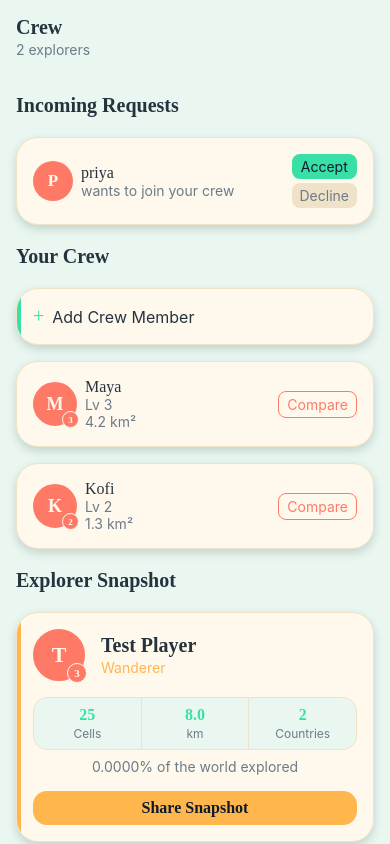
Test: FriendsScreen › compare sheet opens for a crew member
This screenshot has width=390, height=844.
Click the button with test id "crew-card-compare-maya" at x=318, y=404, box [278,390,357,418]
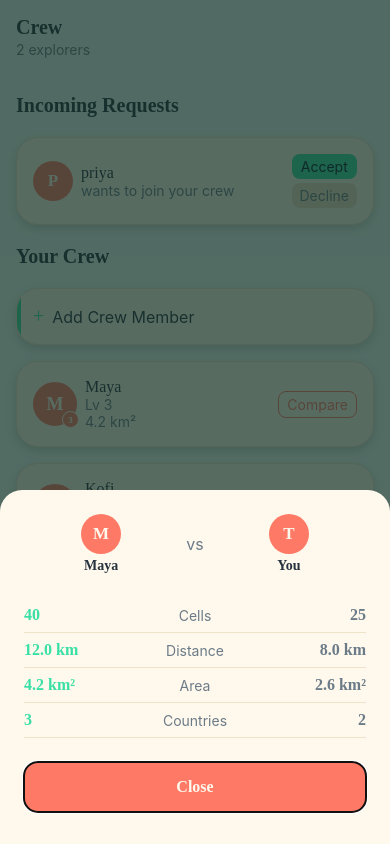
Expected: the text "vs" is shown, [186,534,204,554]
